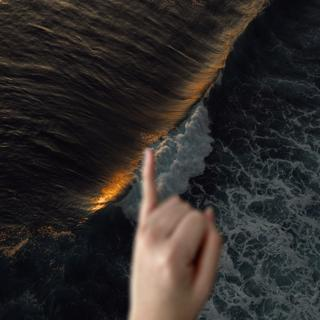Fine: (120, 147, 227, 317)
